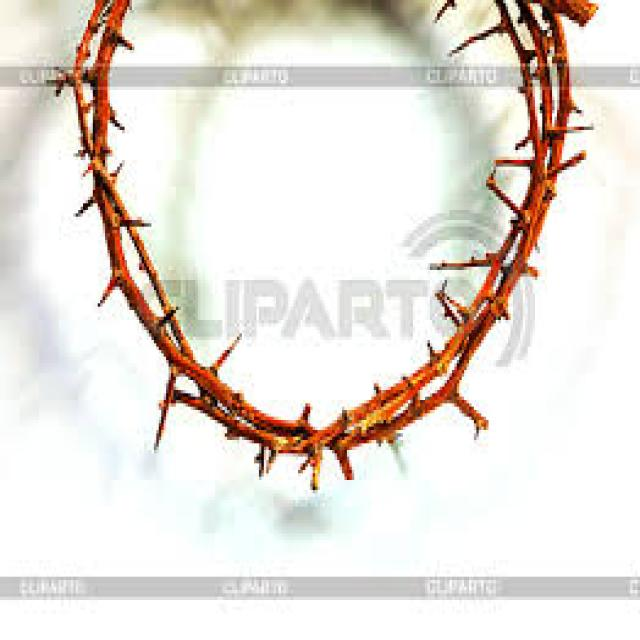crown: (52, 0, 609, 520)
